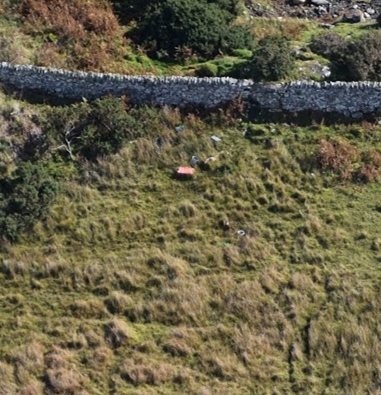scattered_barrel: (170, 122, 226, 183)
white_in_green: (222, 214, 262, 247)
